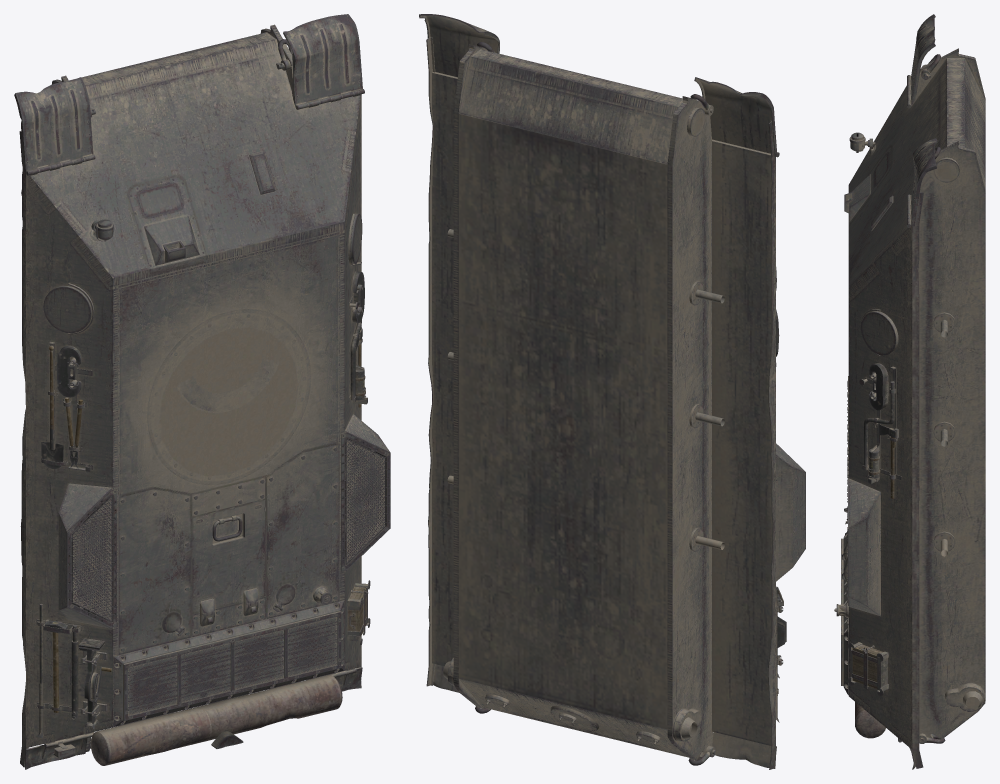
File: Hull.glb
3 views of the same model, side by side, from view 1: azimuth 30°, elevation 25°; view 2: azimuth 150°, elevation 25°; view 3: azimuth 270°, elevation 25° (orthographic). The views are drawn at different scales.
Visible parts, largest first — view 1: set_0_group_0; view 2: set_0_group_0; view 3: set_0_group_0.
Part boxes in pixels (box(x1,y1,x2,y2)): set_0_group_0: box(14, 14, 390, 769); set_0_group_0: box(419, 14, 805, 769); set_0_group_0: box(834, 14, 985, 769).
Bounding box in the file's own units: 3.22 × 6.09 × 1.37.
Materials: 1 (1 with a texture image).
